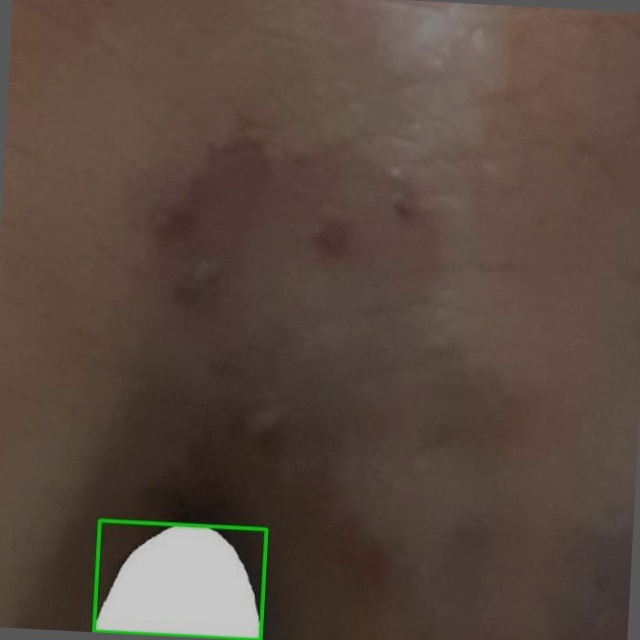Contact Dermatitis: (94, 520, 266, 639)
